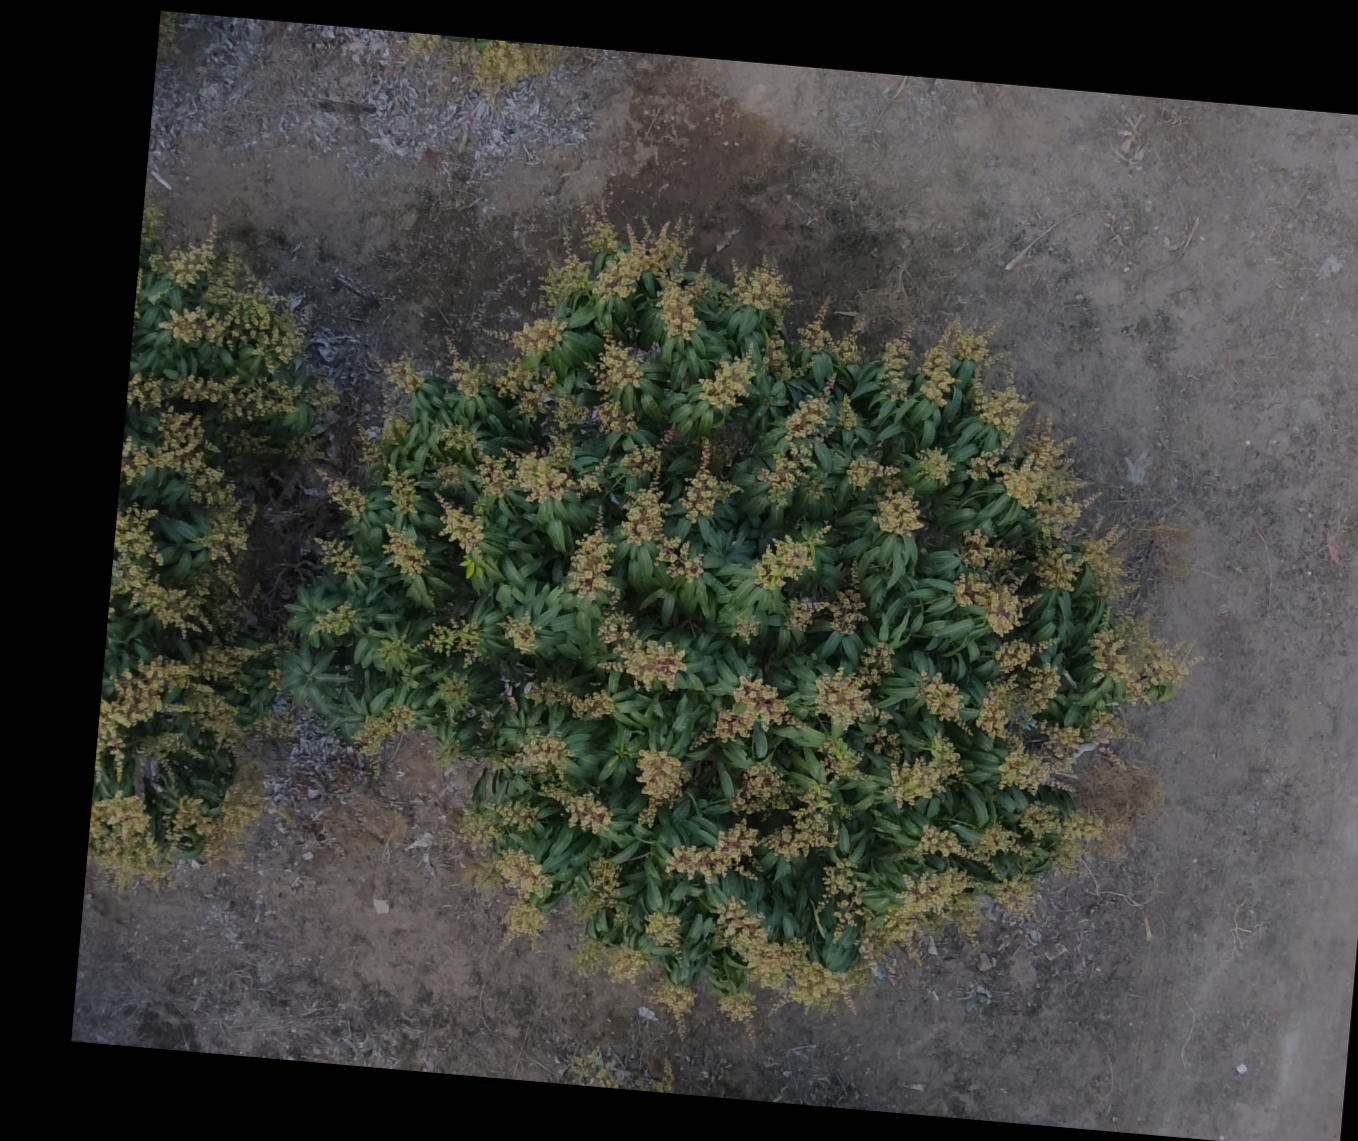flowers: (100, 641, 253, 780), (119, 407, 251, 557), (151, 244, 306, 368), (975, 664, 1123, 793), (670, 777, 832, 881), (713, 903, 870, 1004), (966, 420, 1100, 534), (582, 221, 710, 335), (112, 507, 216, 630), (489, 732, 613, 829), (863, 864, 972, 963), (1088, 617, 1197, 702), (173, 760, 264, 861), (621, 471, 707, 575), (760, 376, 828, 507), (478, 430, 602, 501), (955, 530, 1033, 633), (701, 676, 798, 748), (446, 350, 555, 414), (89, 793, 165, 884), (598, 614, 686, 688), (921, 316, 992, 406), (454, 40, 562, 98), (844, 458, 925, 532), (169, 375, 298, 418), (490, 849, 548, 944), (789, 561, 867, 632), (888, 733, 961, 805), (908, 822, 1030, 863), (682, 437, 740, 523), (756, 520, 826, 590), (1072, 525, 1134, 601), (569, 520, 622, 601), (970, 369, 1031, 437), (798, 300, 863, 362), (569, 1049, 674, 1088), (635, 750, 688, 826), (813, 669, 879, 729), (459, 799, 536, 850), (701, 343, 756, 409), (524, 678, 614, 717), (138, 731, 215, 777), (820, 859, 863, 940), (731, 261, 793, 316), (485, 314, 564, 355), (576, 856, 625, 923), (1018, 803, 1102, 841), (573, 940, 647, 983), (354, 703, 414, 756), (730, 761, 789, 814), (550, 398, 637, 434), (223, 431, 321, 462), (433, 496, 485, 552), (595, 335, 644, 394), (209, 566, 244, 643), (820, 738, 876, 787), (420, 618, 481, 662), (918, 672, 966, 724), (541, 252, 588, 306), (313, 470, 367, 516), (994, 636, 1055, 674), (383, 526, 428, 575), (373, 352, 426, 392), (648, 978, 694, 1023), (880, 334, 911, 401), (763, 337, 806, 381), (312, 538, 361, 575), (717, 990, 756, 1037), (991, 873, 1035, 912), (856, 641, 892, 687), (644, 910, 681, 951), (383, 470, 419, 512), (313, 600, 356, 635), (500, 614, 538, 652), (620, 445, 661, 477), (917, 447, 952, 482), (865, 727, 902, 760), (378, 634, 415, 667), (306, 376, 339, 411), (641, 1056, 674, 1091), (128, 374, 164, 406), (252, 712, 296, 737), (356, 428, 385, 465), (436, 675, 469, 705), (439, 424, 478, 451), (432, 740, 465, 769), (431, 460, 464, 487), (381, 412, 409, 443), (407, 32, 440, 55), (263, 629, 295, 652), (141, 205, 160, 243), (837, 396, 857, 429), (733, 617, 758, 640), (267, 666, 283, 689), (806, 478, 824, 498)
